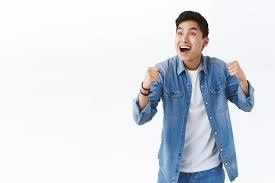Awake: (167, 13, 217, 71)
